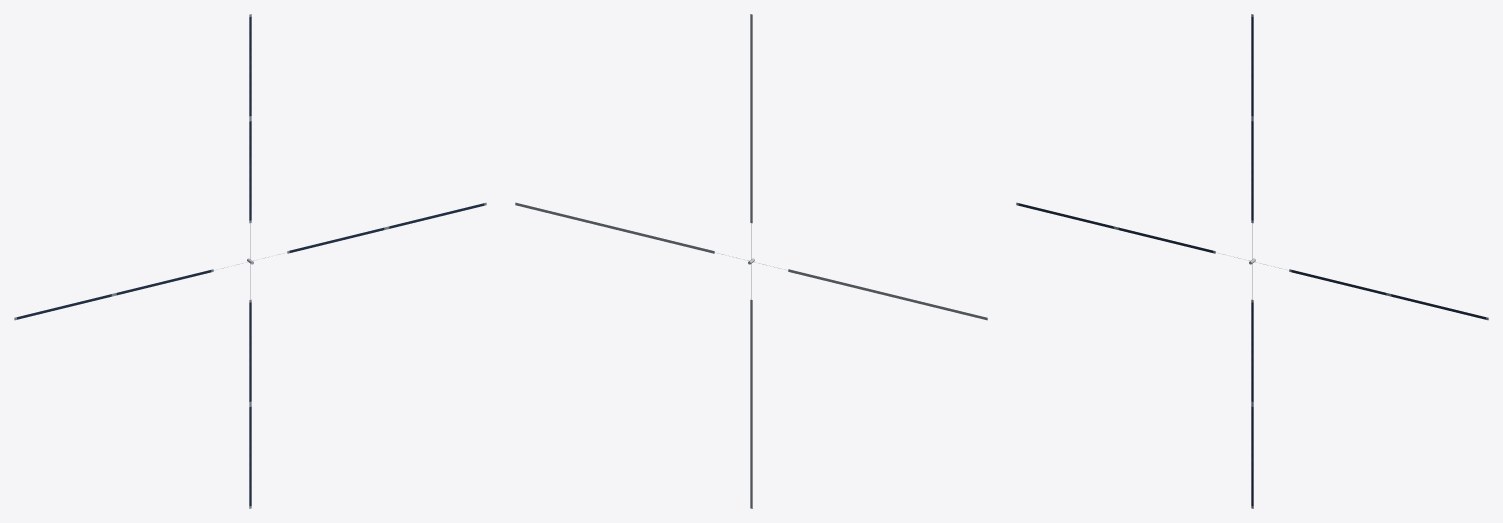
File: ref-nova-8361.glb
3 renders of one model, left to right at view 1: azimuth 30°, elevation 25°; view 2: azimuth 150°, elevation 25°; view 3: azimuth 330°, elevation 25°, orthographic.
Size of the model in its own units: 79 by 79 by 1.24.
Materials: 3 (1 with a texture image).
